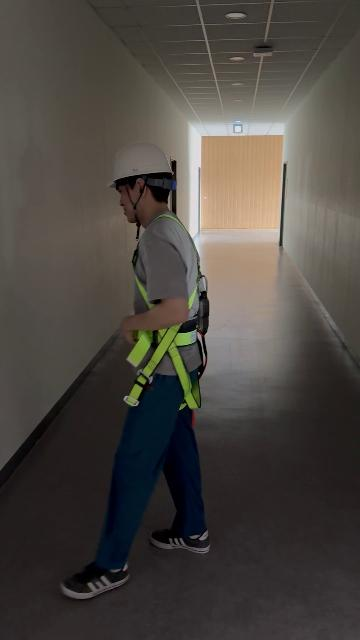helmet_worn: (107, 142, 174, 187)
shoe_not_worn: (62, 560, 130, 598), (150, 527, 210, 553)
vest_worn: (124, 218, 207, 409)
